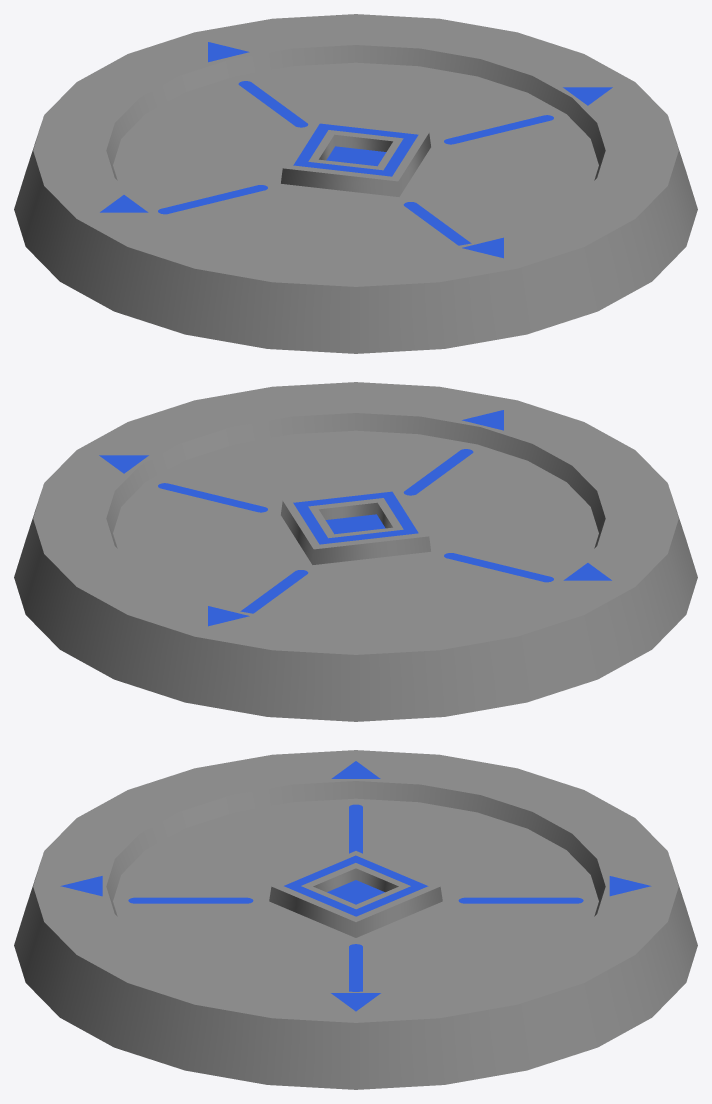
The model's file is Part_3_stone gimmick_01.fbx.
3 renders of one model, top to bottom at view 1: azimuth 30°, elevation 25°; view 2: azimuth 150°, elevation 25°; view 3: azimuth 270°, elevation 25°, orthographic.
Visible parts, largest first — view 1: Part_3_stone gimmick_01; view 2: Part_3_stone gimmick_01; view 3: Part_3_stone gimmick_01.
Boxes of the visible parts, x1,y1,x2,y2 form: Part_3_stone gimmick_01: [14, 14, 697, 353]; Part_3_stone gimmick_01: [14, 382, 697, 721]; Part_3_stone gimmick_01: [14, 750, 697, 1089].
Bounding box in the file's own units: 2.19 × 0.2094 × 2.19.
